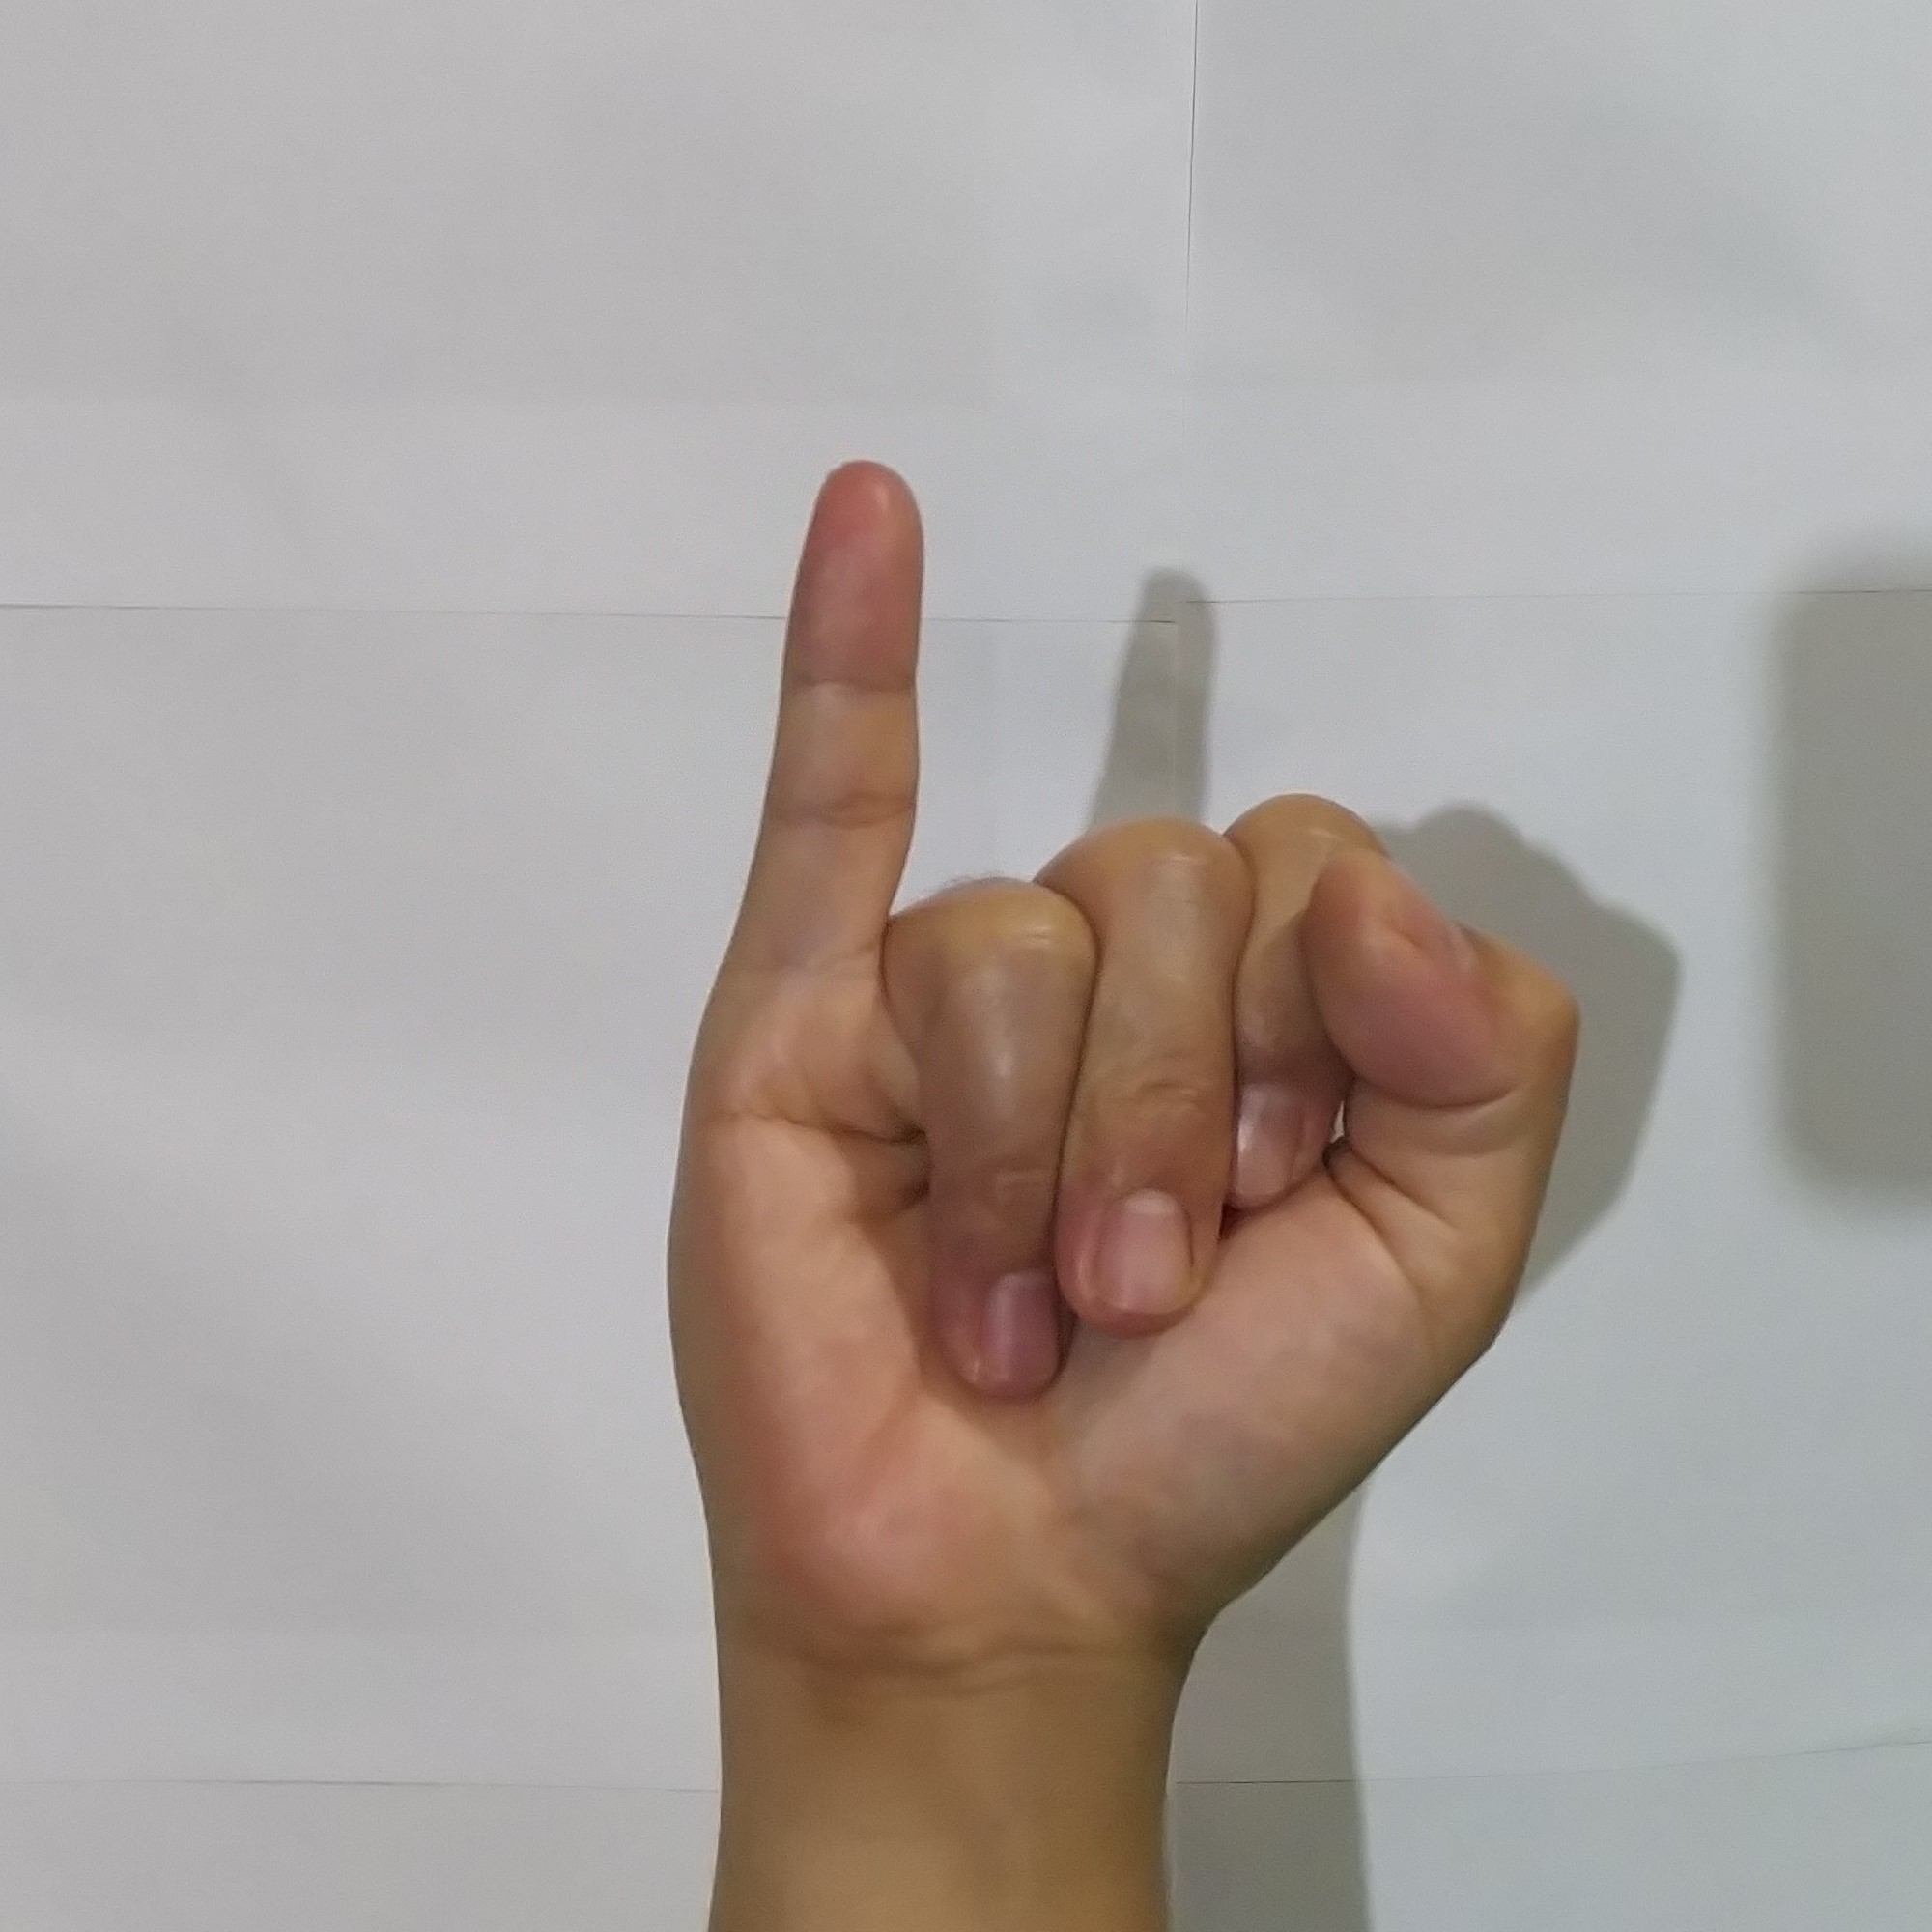I: (628, 432, 1608, 1651)
